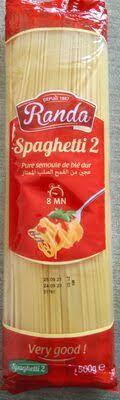Spaghetti: (7, 0, 108, 392)
